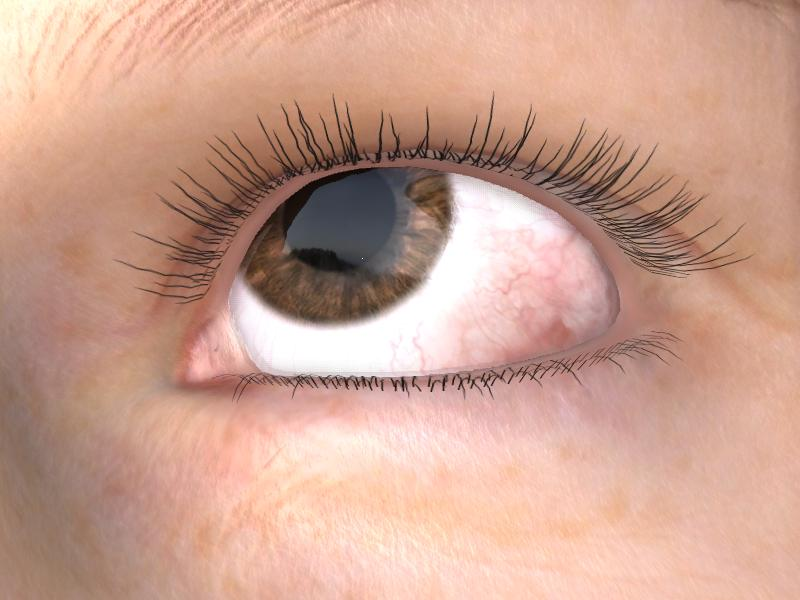eye: (237, 167, 452, 326)
